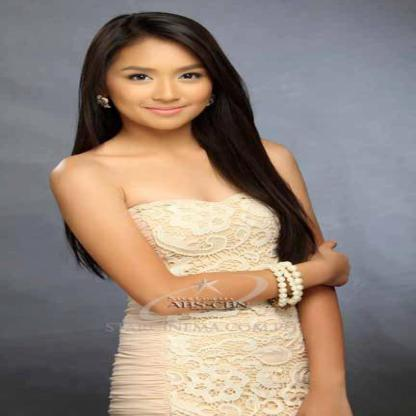long-hair: (57, 132, 270, 155)
